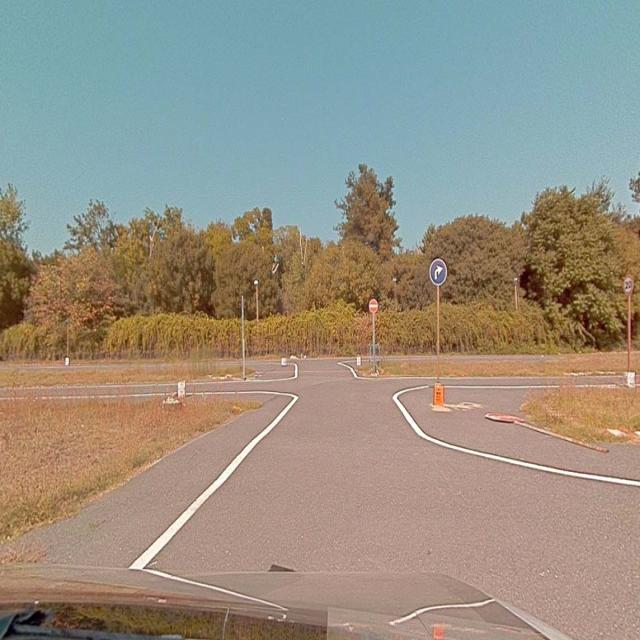20: (624, 275, 632, 293)
girisyok: (368, 299, 378, 312)
sag: (430, 258, 446, 284)
